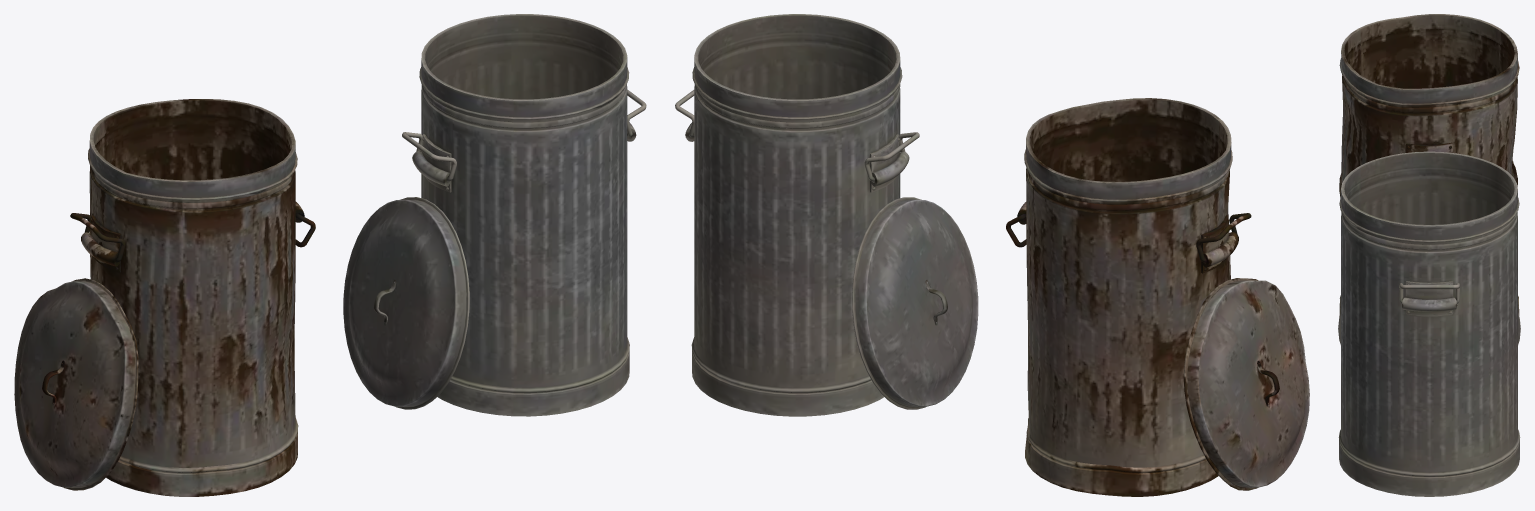
The model's file is metal_trash_can.glb.
3 renders of one model, left to right at view 1: azimuth 30°, elevation 25°; view 2: azimuth 150°, elevation 25°; view 3: azimuth 270°, elevation 25°, orthographic. The views are drawn at different scales.
Visible parts, largest first — view 1: metal_trash_can_handle_left, metal_trash_can_rust; view 2: metal_trash_can_handle_left, metal_trash_can_rust; view 3: metal_trash_can_handle_left, metal_trash_can_rust.
Part boxes in pixels (x1,y1,x2,y2): metal_trash_can_handle_left: (343,14,646,416); metal_trash_can_rust: (14,99,315,496); metal_trash_can_handle_left: (675,14,978,416); metal_trash_can_rust: (1006,98,1309,496); metal_trash_can_handle_left: (1338,151,1520,496); metal_trash_can_rust: (1339,14,1519,316).
Bounding box in the file's own units: 1.78 × 0.9062 × 0.5563.
2 materials, 2 textured.
